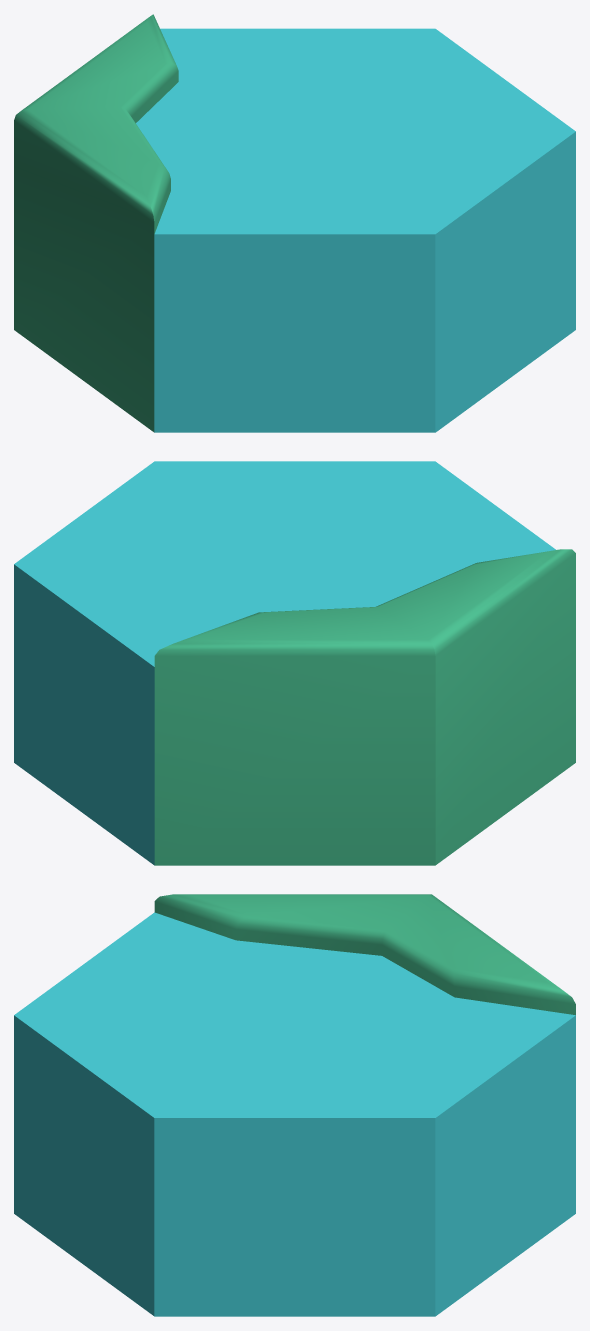
File: hex_forest_waterA.glb
The picture shows the model from 3 angles, top to bottom: view 1: azimuth 30°, elevation 25°; view 2: azimuth 150°, elevation 25°; view 3: azimuth 270°, elevation 25°; orthographic projection.
Visible parts, largest first — view 1: hex_forest_waterA; view 2: hex_forest_waterA; view 3: hex_forest_waterA.
Boxes of the visible parts, x1,y1,x2,y2 form: hex_forest_waterA: (14,14,575,432); hex_forest_waterA: (14,461,575,865); hex_forest_waterA: (14,894,575,1316).
Size of the model in its own units: 3.43 by 1.72 by 3.96.
